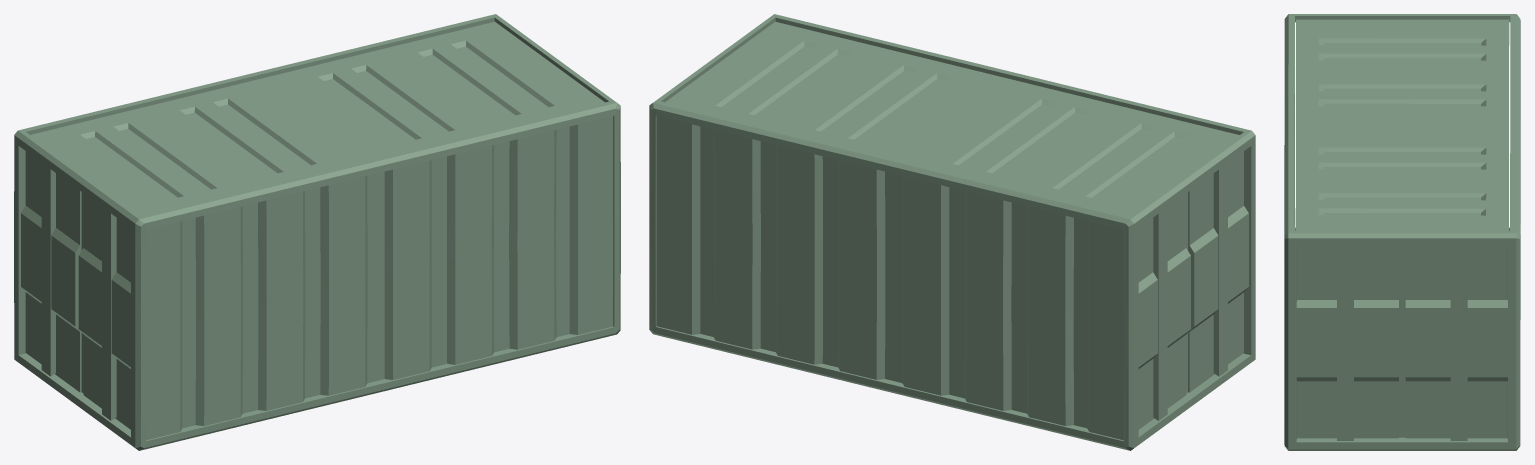
File: env_container_01.glb
The picture shows the model from 3 angles, left to right: view 1: azimuth 30°, elevation 25°; view 2: azimuth 150°, elevation 25°; view 3: azimuth 270°, elevation 25°; orthographic projection. The views are drawn at different scales.
Parts seen in each view (by area): view 1: _tmp_env_env_container_01.obj; view 2: _tmp_env_env_container_01.obj; view 3: _tmp_env_env_container_01.obj.
Part boxes in pixels (<box>): _tmp_env_env_container_01.obj: <box>14,14,620,450</box>; _tmp_env_env_container_01.obj: <box>649,14,1255,450</box>; _tmp_env_env_container_01.obj: <box>1284,14,1520,450</box>.
Size of the model in its own units: 5.71 by 2.6 by 2.56.
